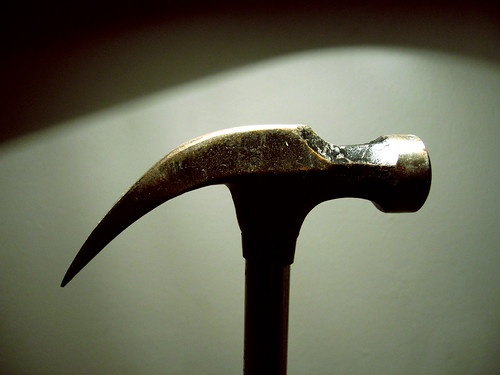hammer: (59, 122, 436, 375)
